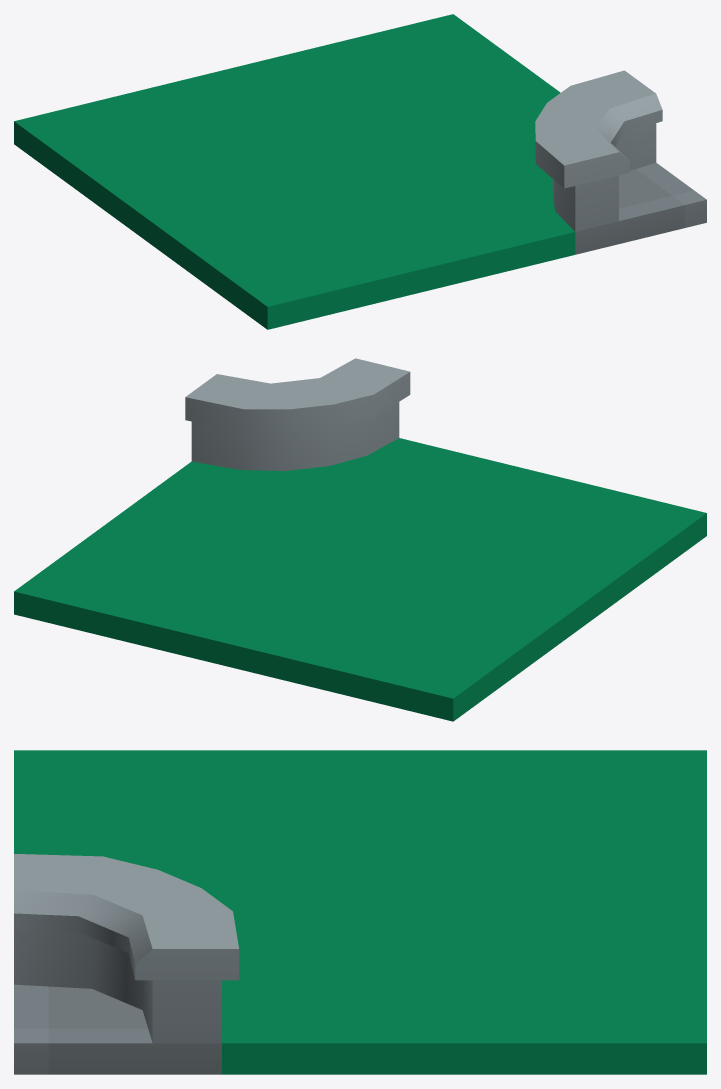
The model's file is park_wall_innerCorner.glb.
The picture shows the model from 3 angles, top to bottom: view 1: azimuth 30°, elevation 25°; view 2: azimuth 150°, elevation 25°; view 3: azimuth 270°, elevation 25°; orthographic projection. The views are drawn at different scales.
Visible parts, largest first — view 1: park_wall_innerCorner; view 2: park_wall_innerCorner; view 3: park_wall_innerCorner.
Part boxes in pixels (x1,y1,x2,y2): park_wall_innerCorner: (14,14,706,329); park_wall_innerCorner: (14,358,706,721); park_wall_innerCorner: (14,750,706,1074).
Size of the model in its own units: 2 by 0.4 by 2.
1 material, 1 textured.
